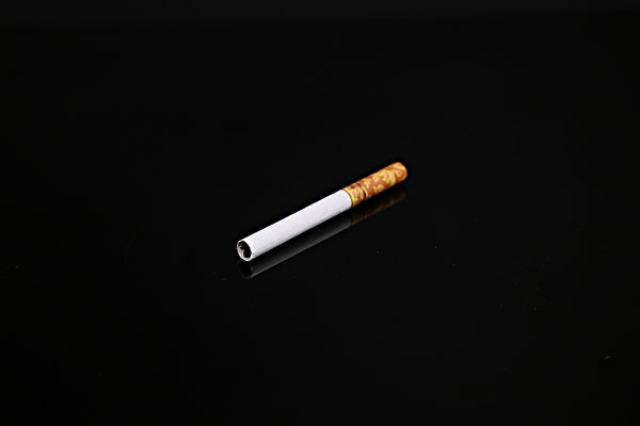Cigarette: (236, 163, 408, 263)
